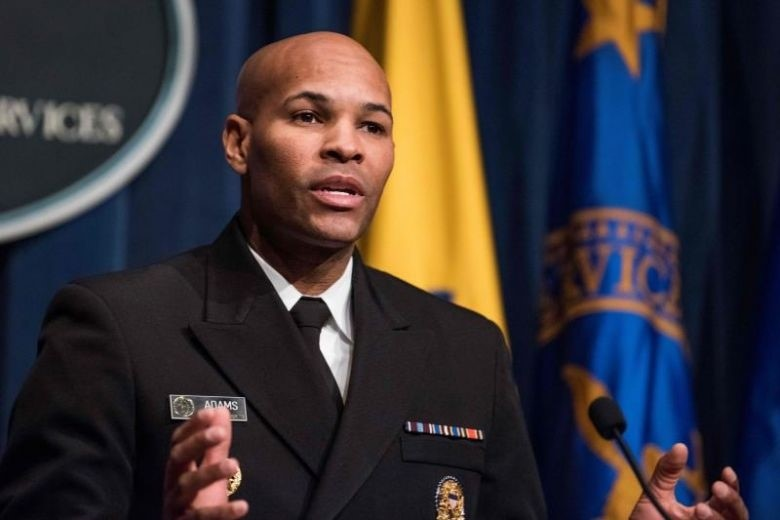face_no_mask: (224, 31, 393, 242)
